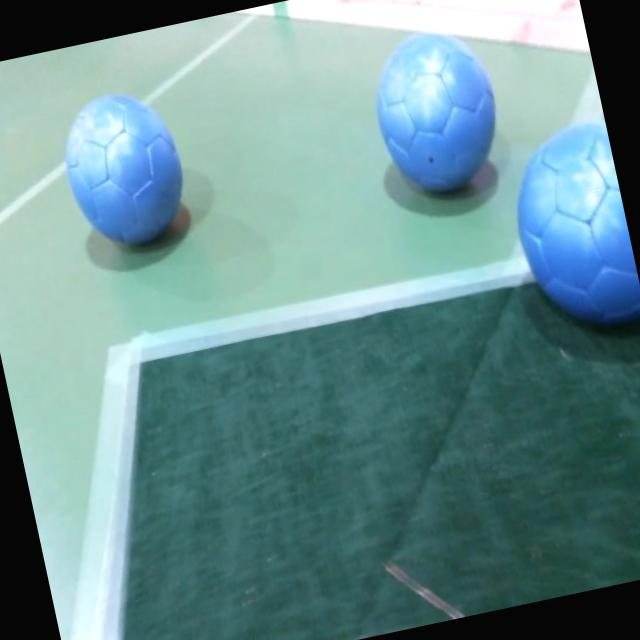blue_ball: (497, 120, 640, 346), (364, 25, 508, 196), (54, 85, 196, 256)
